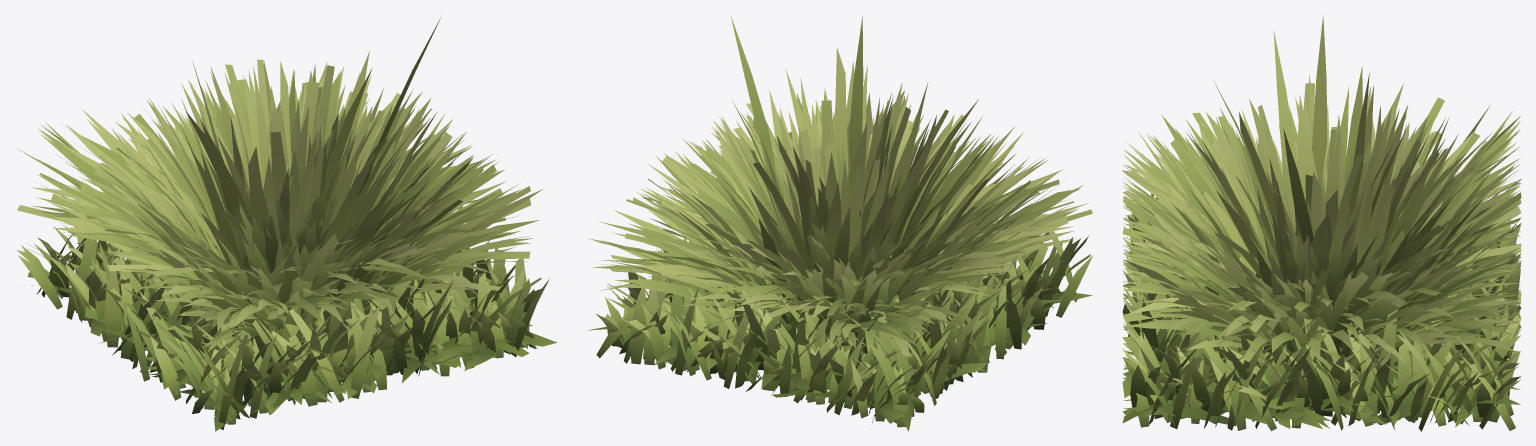
File: flora_grass_1_tall_grass_tuft_variant_2.glb
3 renders of one model, left to right at view 1: azimuth 30°, elevation 25°; view 2: azimuth 150°, elevation 25°; view 3: azimuth 270°, elevation 25°, orthographic. The views are drawn at different scales.
Parts seen in each view (by area): view 1: blades variant 2; view 2: blades variant 2; view 3: blades variant 2.
Part boxes in pixels (bbox=[...]): blades variant 2: bbox=[17, 18, 557, 431]; blades variant 2: bbox=[587, 15, 1093, 431]; blades variant 2: bbox=[1122, 15, 1521, 431].
Bounding box in the file's own units: 1 × 0.8 × 1.
